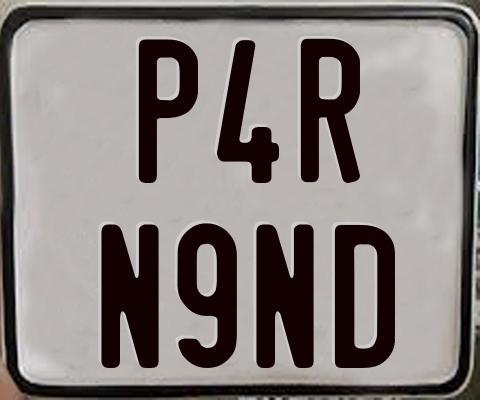4: (214, 37, 281, 183)
9: (174, 220, 238, 371)
D: (332, 223, 395, 371)
N: (256, 221, 318, 366), (98, 223, 157, 369)
P: (138, 38, 200, 188)
R: (298, 36, 357, 180)
